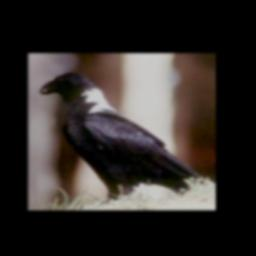Crow: (38, 68, 209, 204)
